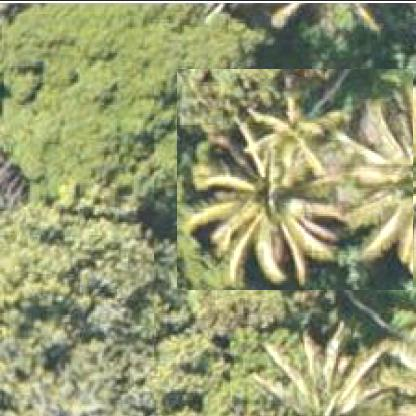coconut tree: (177, 68, 414, 290), (245, 314, 415, 414)
